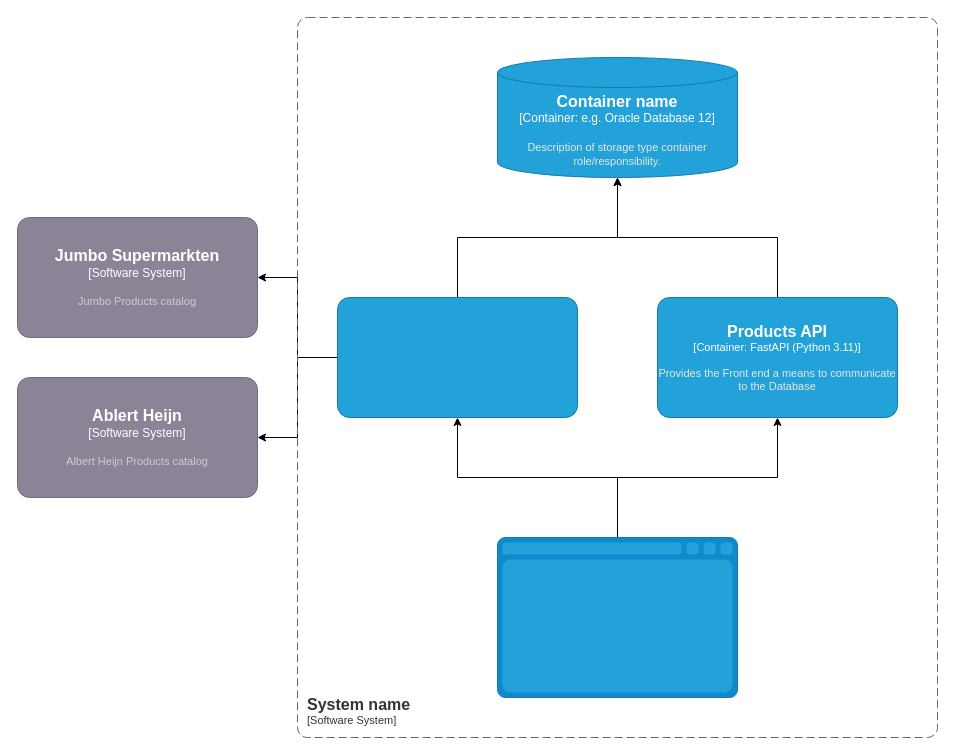
Image size: 955x755. Some labels were removed from this diagram. Each missing label, with the box of its shape:
Frontend [Container: Vue.js] Front end written in Vue.js 3 + Typescript: (496, 536, 738, 698)
Scraper [Container: Celery (Python)] Regularly scrapes grocery market sites.: (336, 296, 578, 418)
